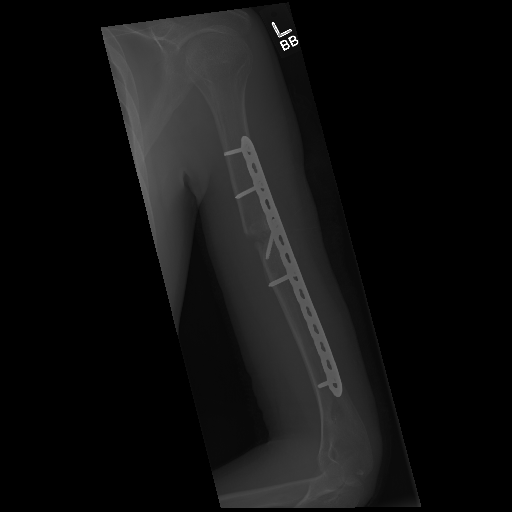implant: (224, 137, 298, 290), (308, 345, 346, 397)
